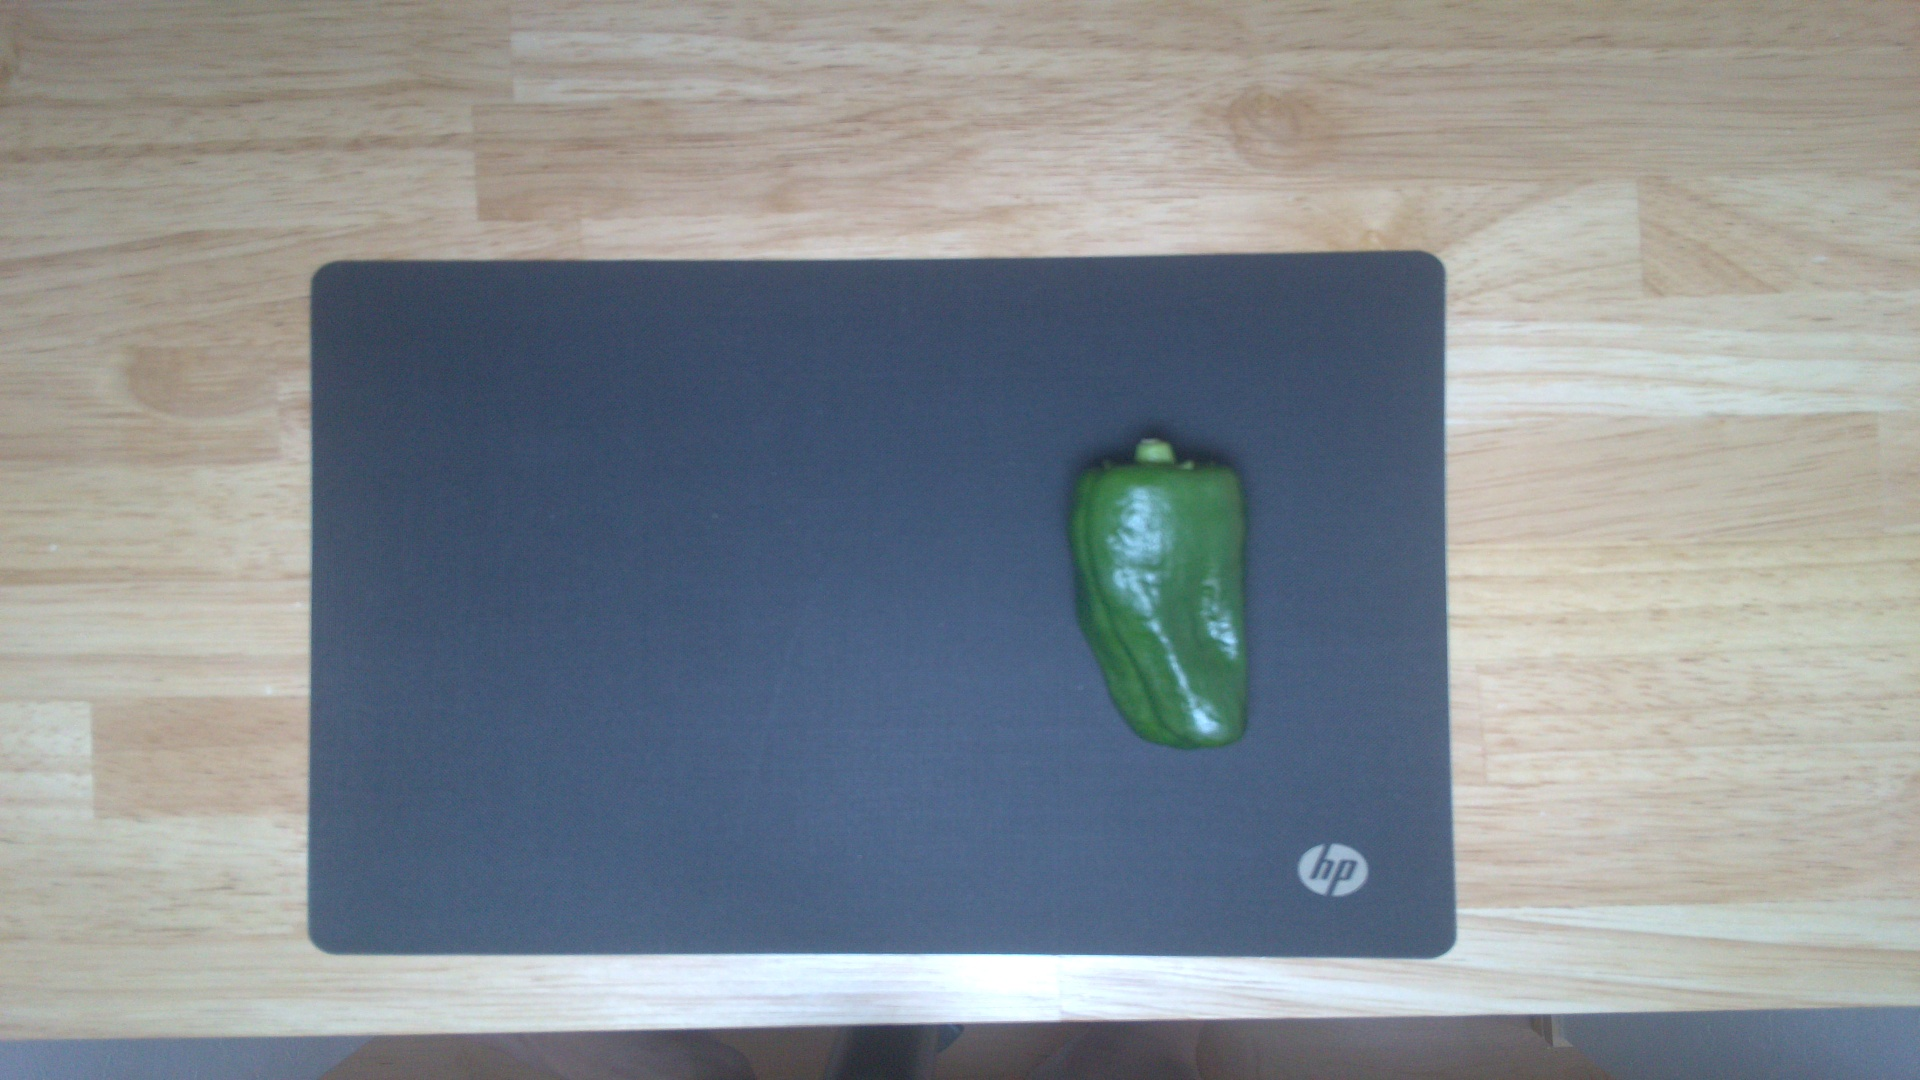Piman: (1067, 435, 1258, 754)
